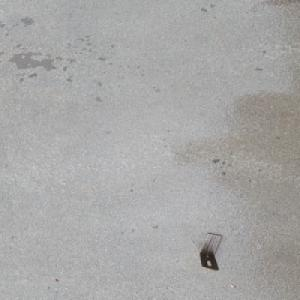MetalPart: (198, 232, 223, 271)
